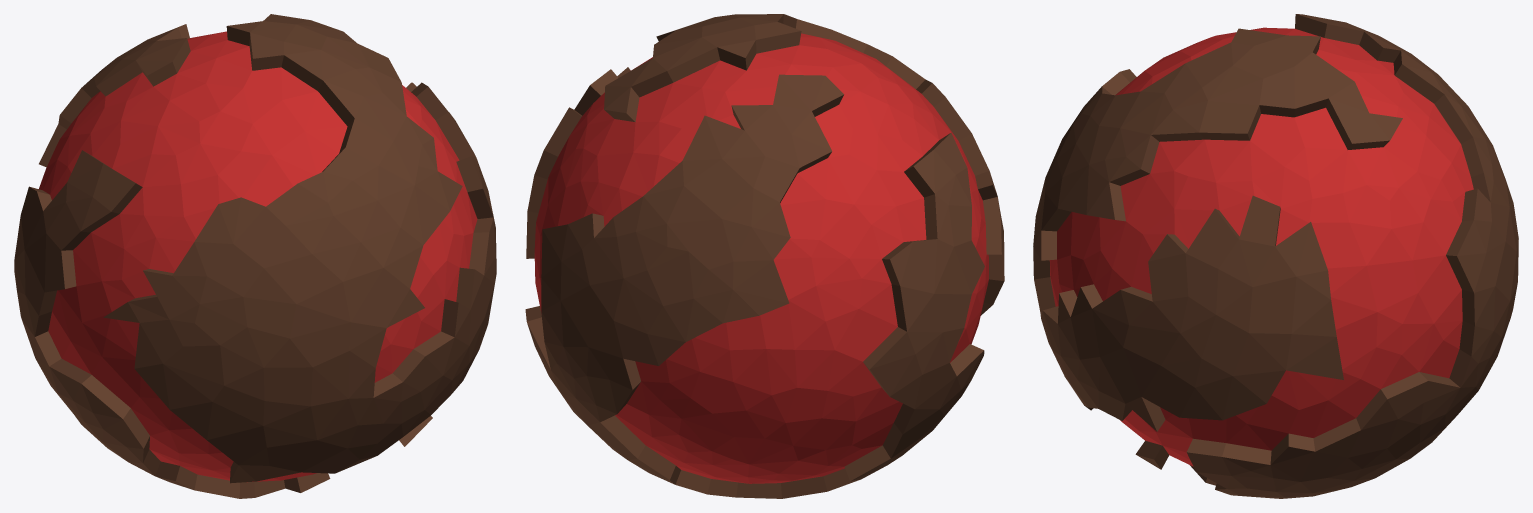
The model's file is PlanetLava.fbx.
The picture shows the model from 3 angles, left to right: view 1: azimuth 30°, elevation 25°; view 2: azimuth 150°, elevation 25°; view 3: azimuth 270°, elevation 25°; orthographic projection.
Visible parts, largest first — view 1: Planet Lava; view 2: Planet Lava; view 3: Planet Lava.
Boxes of the visible parts, <box> form: Planet Lava: <box>14,14,496,498</box>; Planet Lava: <box>525,14,1004,498</box>; Planet Lava: <box>1033,14,1518,498</box>.
Size of the model in its own units: 203 by 203 by 203.
